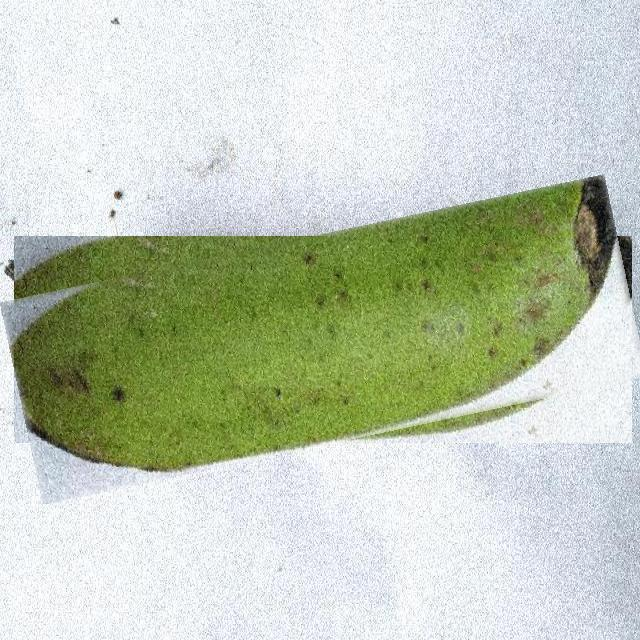Verde: (7, 205, 639, 474)
